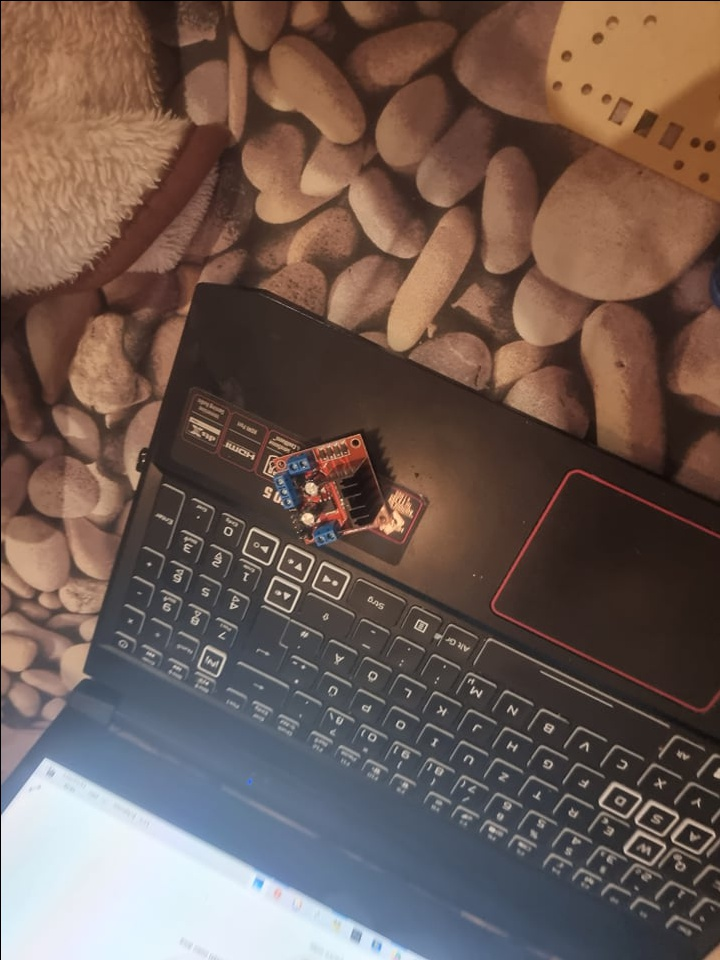MOTOR: (265, 429, 396, 549)
